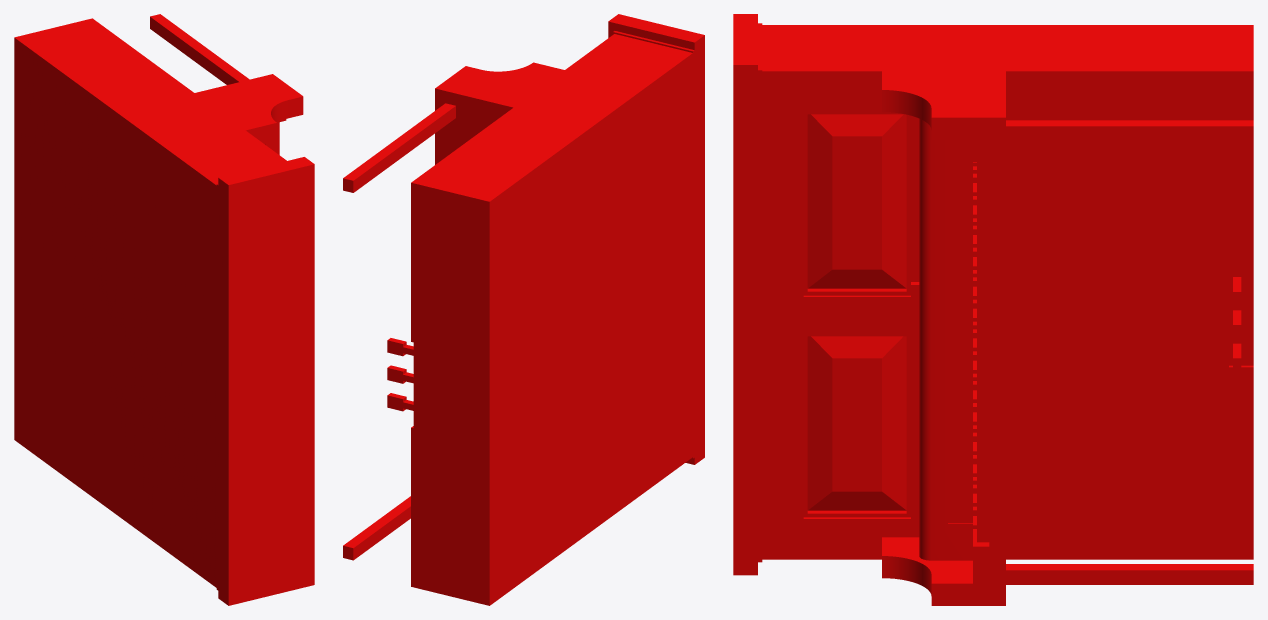
Rendered from Apartment_robot_red.dae.
3 renders of one model, left to right at view 1: azimuth 30°, elevation 25°; view 2: azimuth 150°, elevation 25°; view 3: azimuth 270°, elevation 25°, orthographic. The views are drawn at different scales.
Parts seen in each view (by area): view 1: instance_0 (×2); view 2: instance_0 (×3); view 3: instance_0 (×10).
Boxes of the visible parts, x1,y1,x2,y2 form: instance_0 (×2): (14, 14, 314, 605); instance_0 (×3): (343, 14, 704, 605); instance_0 (×10): (733, 14, 1253, 605).
Size of the model in its own units: 23.1 by 54.81 by 59.34.
